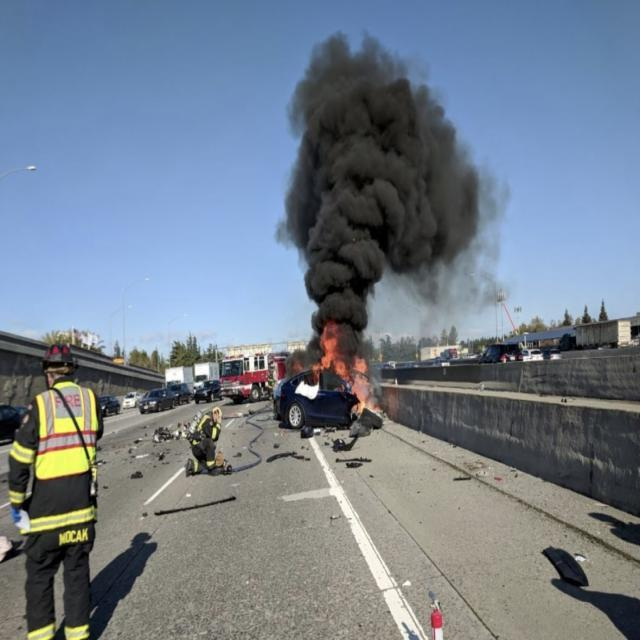Fire: (312, 322, 370, 417)
Smoke: (272, 27, 514, 361)
